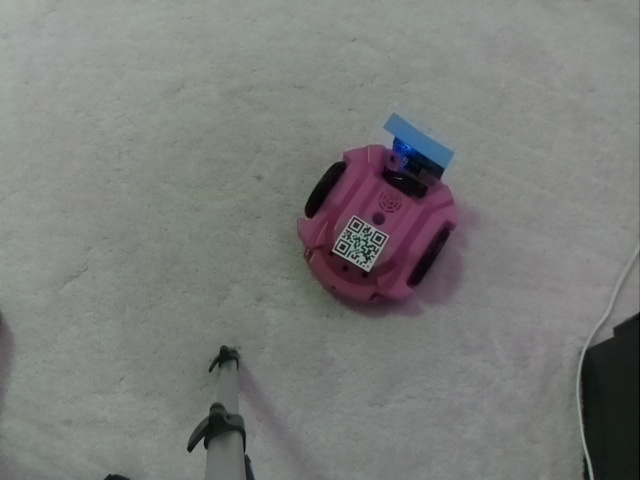chassis: (287, 113, 464, 316)
qr: (327, 211, 392, 277)
